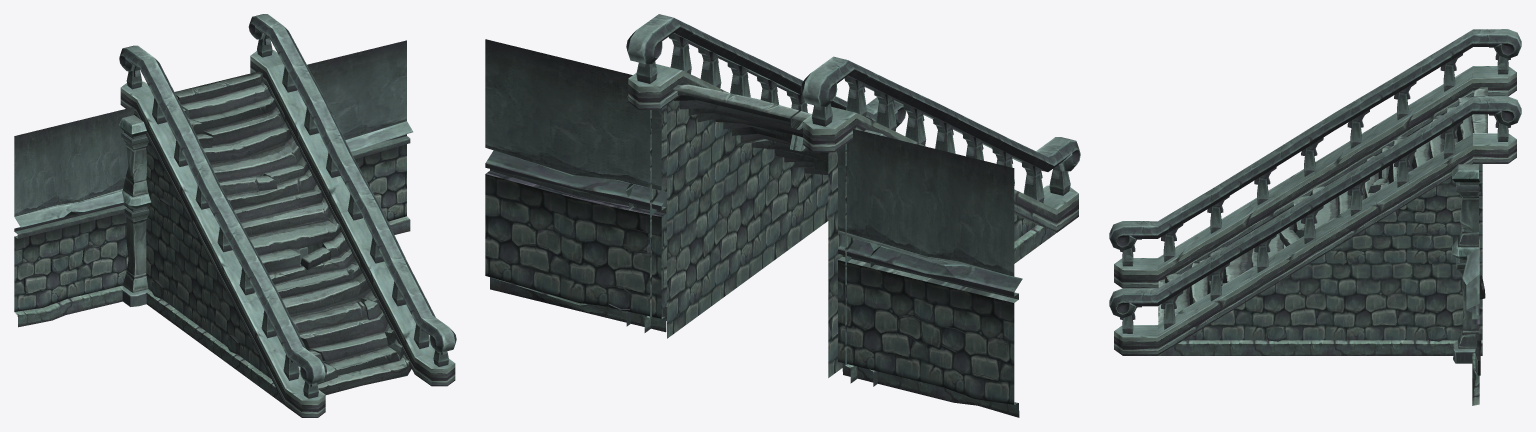
File: crypt_wall_stairs_01.fbx
The picture shows the model from 3 angles, left to right: view 1: azimuth 30°, elevation 25°; view 2: azimuth 150°, elevation 25°; view 3: azimuth 270°, elevation 25°; orthographic projection. The views are drawn at different scales.
Parts seen in each view (by area): view 1: crypt_wall_stairs_01-0; view 2: crypt_wall_stairs_01-0; view 3: crypt_wall_stairs_01-0.
Boxes of the visible parts, x1=… form: crypt_wall_stairs_01-0: x1=14, y1=14, x2=456, y2=417; crypt_wall_stairs_01-0: x1=485, y1=14, x2=1080, y2=417; crypt_wall_stairs_01-0: x1=1109, y1=29, x2=1521, y2=405.
Size of the model in its own units: 12 by 6.88 by 10.26.
